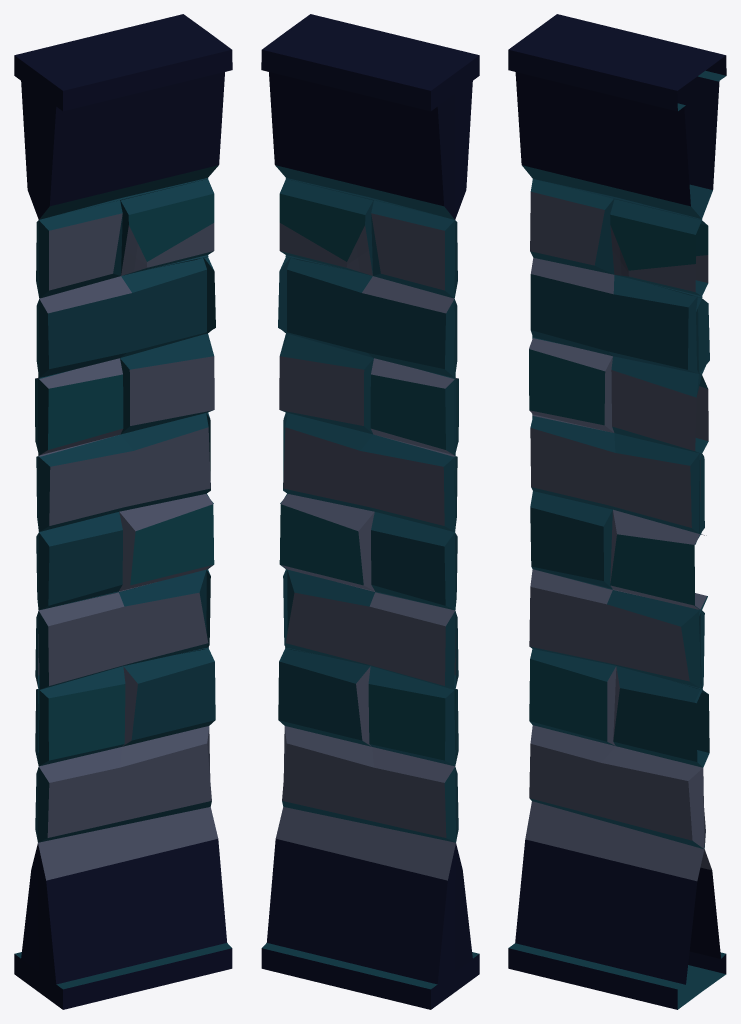
File: Tembok 50.fbx
The picture shows the model from 3 angles, left to right: view 1: azimuth 30°, elevation 25°; view 2: azimuth 150°, elevation 25°; view 3: azimuth 330°, elevation 25°; orthographic projection.
Visible parts, largest first — view 1: Tembok 50 Cm; view 2: Tembok 50 Cm; view 3: Tembok 50 Cm.
Boxes of the visible parts, x1=… form: Tembok 50 Cm: x1=14, y1=14, x2=232, y2=1009; Tembok 50 Cm: x1=261, y1=14, x2=479, y2=1009; Tembok 50 Cm: x1=508, y1=14, x2=726, y2=1009.
Bounding box in the file's own units: 102 × 520 × 50.01.
